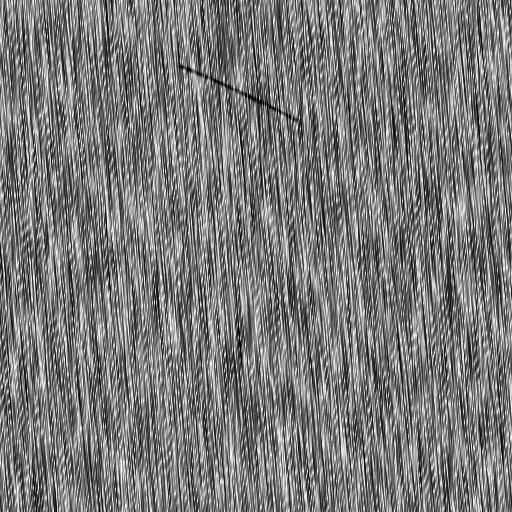DefectTypeC: (181, 60, 298, 120)
